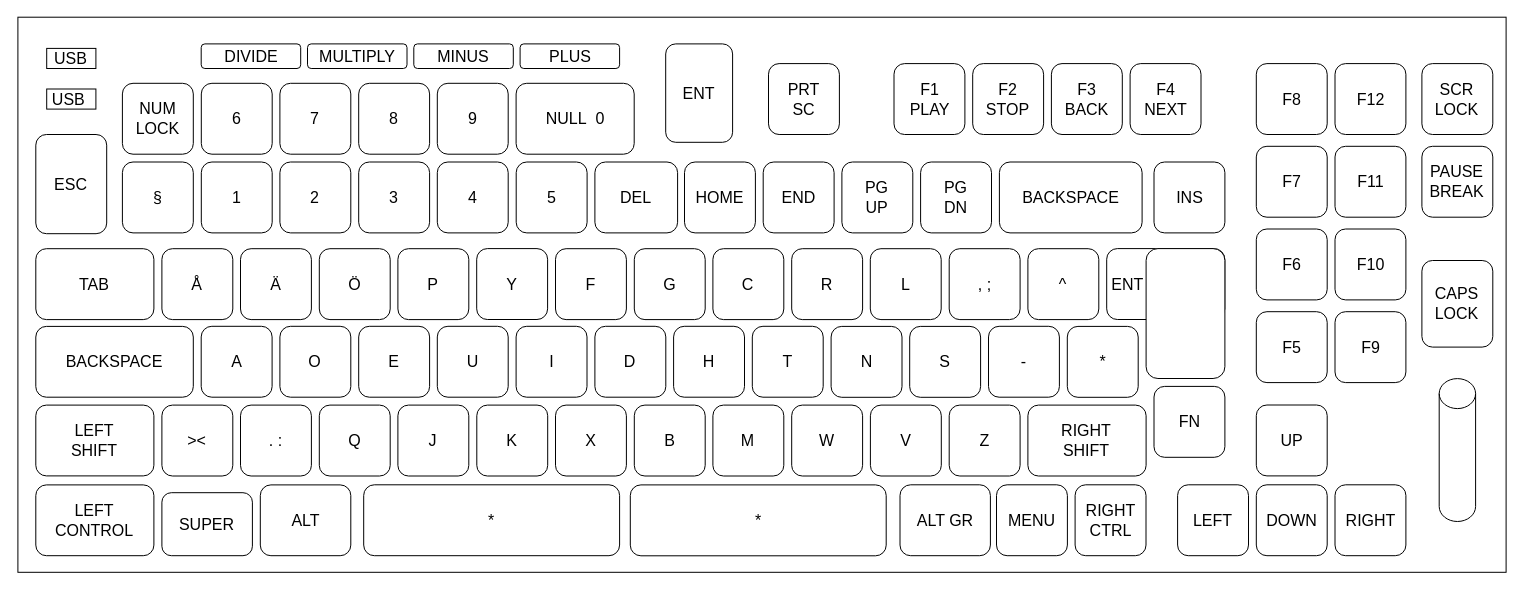
The diagram is 1524 pixels wide and 591 high, and some of its shapes have lost their labels. Here are the shapes that lost their labels. From the top down, the centre of each, then its label:
point 1185,313: E N T E R
point 1457,450: V O L U M E SIDE SCROLL
